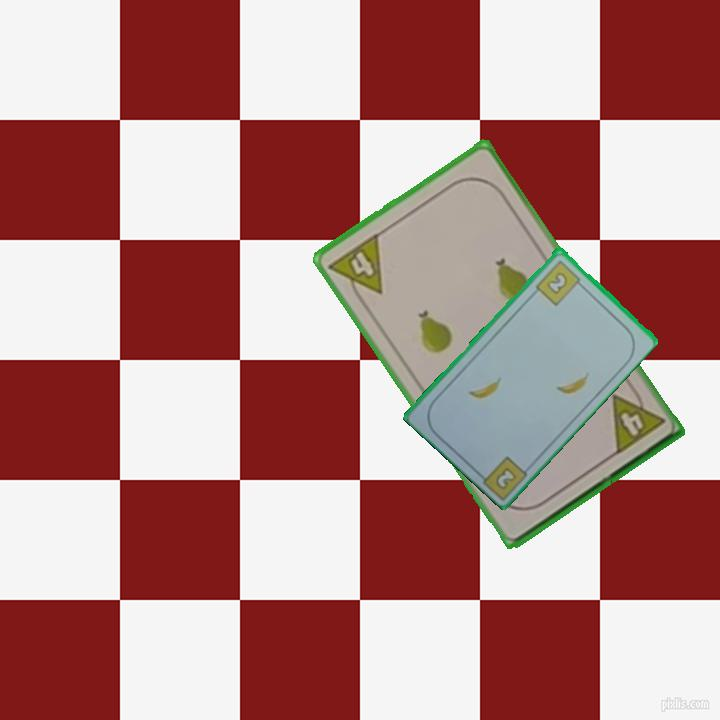2b: (532, 256, 586, 308), (492, 463, 520, 492)
4p: (324, 229, 386, 308), (607, 381, 667, 458)
